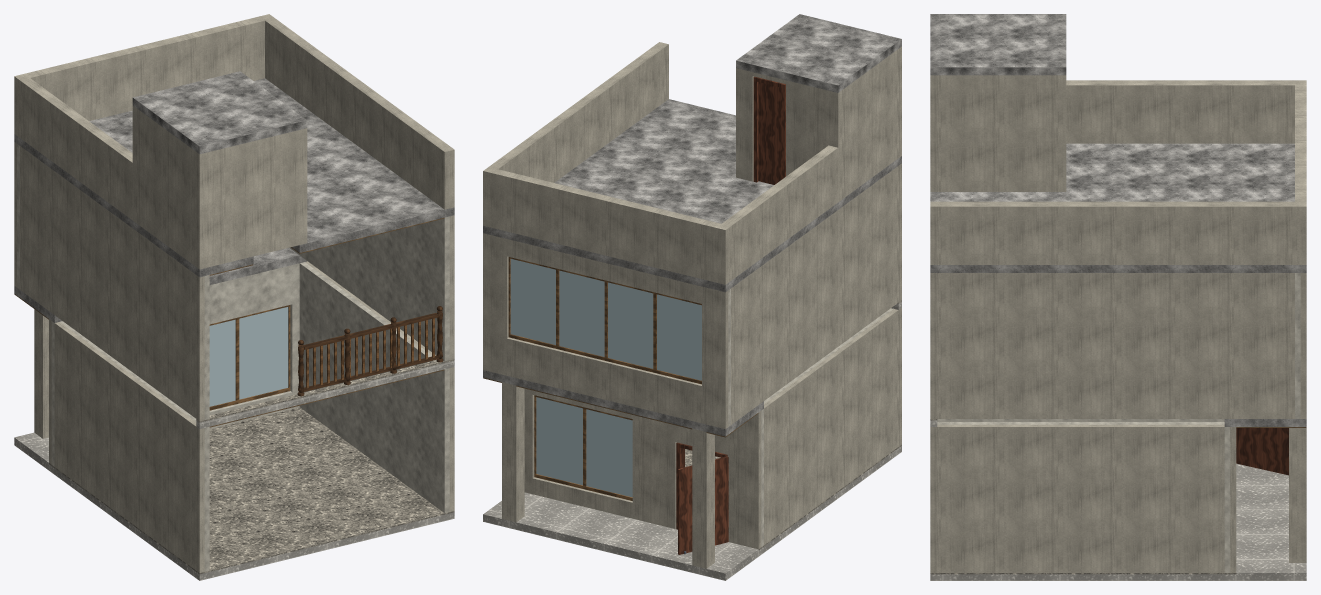
The model's file is rowhouse_front_1950.fbx.
3 renders of one model, left to right at view 1: azimuth 30°, elevation 25°; view 2: azimuth 150°, elevation 25°; view 3: azimuth 270°, elevation 25°, orthographic. The views are drawn at different scales.
Parts seen in each view (by area): view 1: rowhouse_front_1950; view 2: rowhouse_front_1950; view 3: rowhouse_front_1950.
Part boxes in pixels (box(x1,y1,x2,y2)): rowhouse_front_1950: box(14, 14, 454, 580); rowhouse_front_1950: box(483, 14, 901, 580); rowhouse_front_1950: box(930, 14, 1306, 580).
Size of the model in its own units: 510 by 830 by 642.
